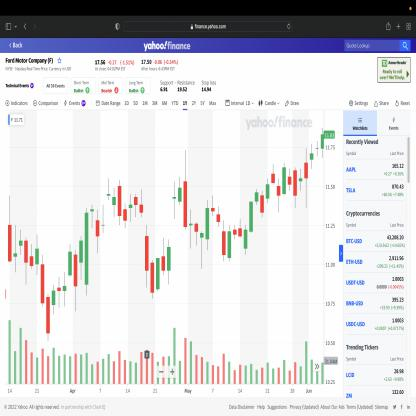Bullish: 3 White Soldiers: (242, 187, 260, 257)
Bullish: Hammer: (194, 197, 210, 271)
